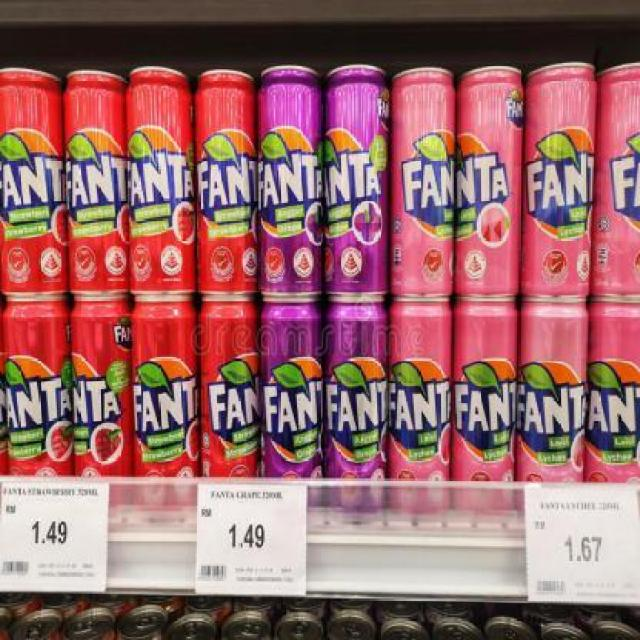Drinks: (524, 61, 598, 301), (127, 66, 198, 296), (324, 65, 391, 302), (456, 66, 524, 299), (259, 64, 324, 301), (390, 68, 456, 300), (193, 69, 259, 300), (0, 68, 66, 298), (65, 69, 128, 297), (518, 300, 590, 480), (1, 295, 70, 477), (132, 298, 198, 476), (454, 301, 517, 481), (261, 302, 324, 480), (324, 300, 387, 478), (70, 299, 132, 478), (390, 302, 452, 480), (200, 302, 260, 478), (587, 300, 640, 481)
